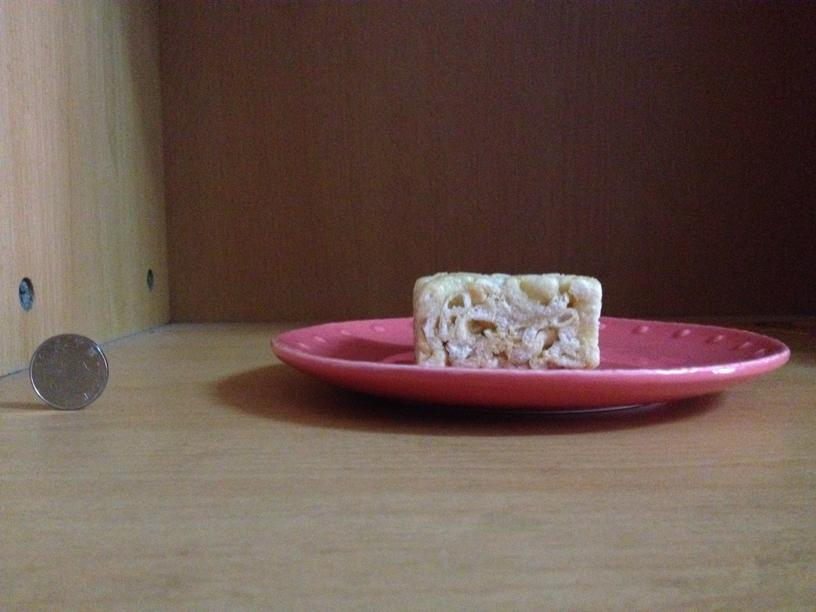coin: (30, 332, 113, 413)
sachima: (411, 269, 601, 371)
